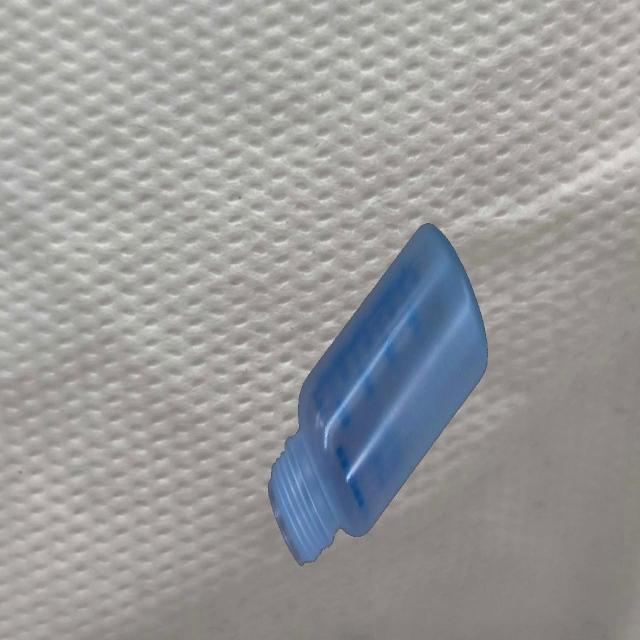bottle: (261, 214, 492, 572)
